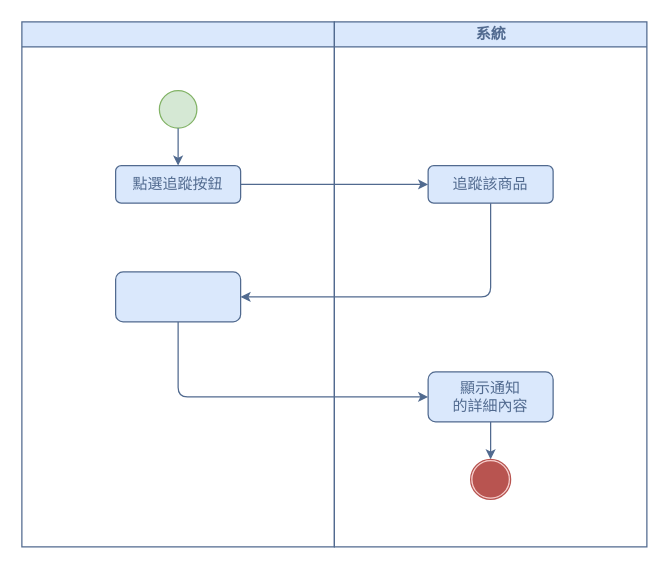
Some shapes in this 669 by 569 pixel diagram are drawn without their labels. The box of each missing label's shape, as (x1, y1, x2, y2) in pixels:
動作者: (21, 21, 334, 547)
將按鈕文字 更改為已追蹤: (114, 271, 241, 322)
